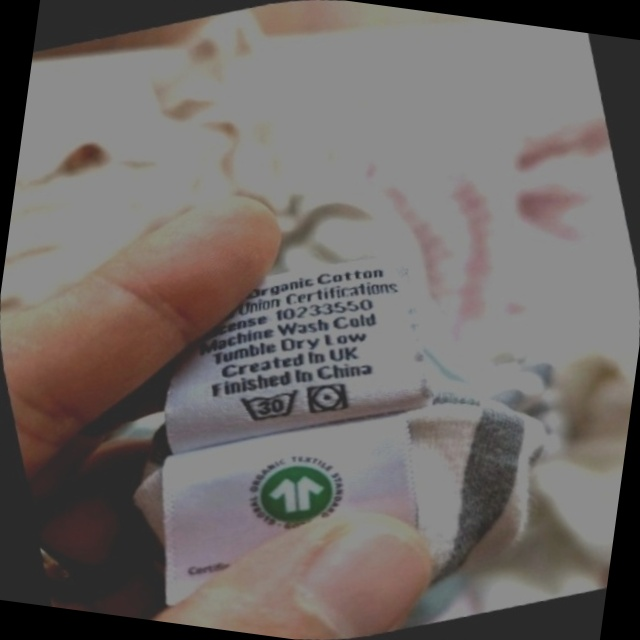30C: (227, 373, 312, 439)
tumble_dry_low: (296, 370, 359, 427)
